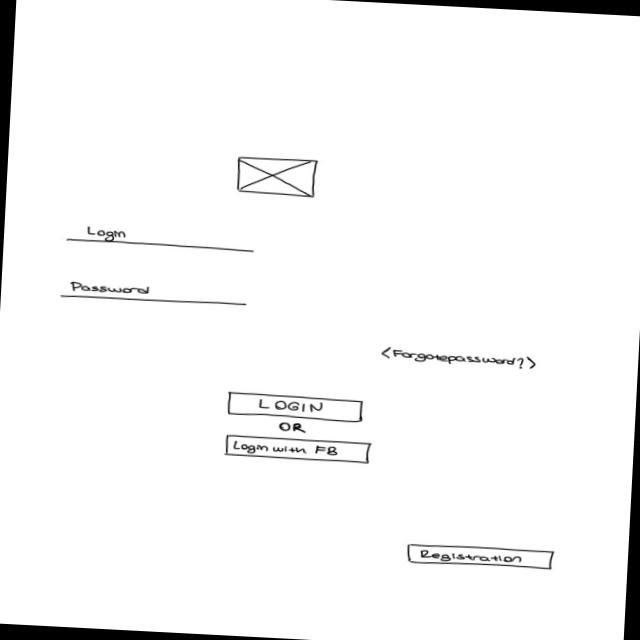button: (227, 392, 367, 425), (225, 434, 374, 465), (406, 543, 557, 573)
image: (236, 156, 321, 200)
input: (66, 225, 258, 255), (60, 280, 251, 309)
label: (278, 421, 309, 436)
link: (382, 347, 539, 372)
